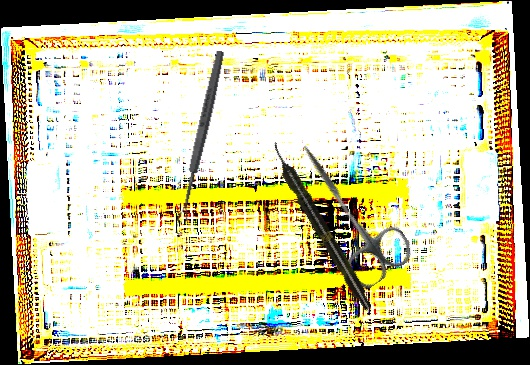Handpiece: (266, 139, 376, 314)
Iris Scissors: (273, 128, 419, 294)
Surgical Spoon: (175, 49, 227, 223)
